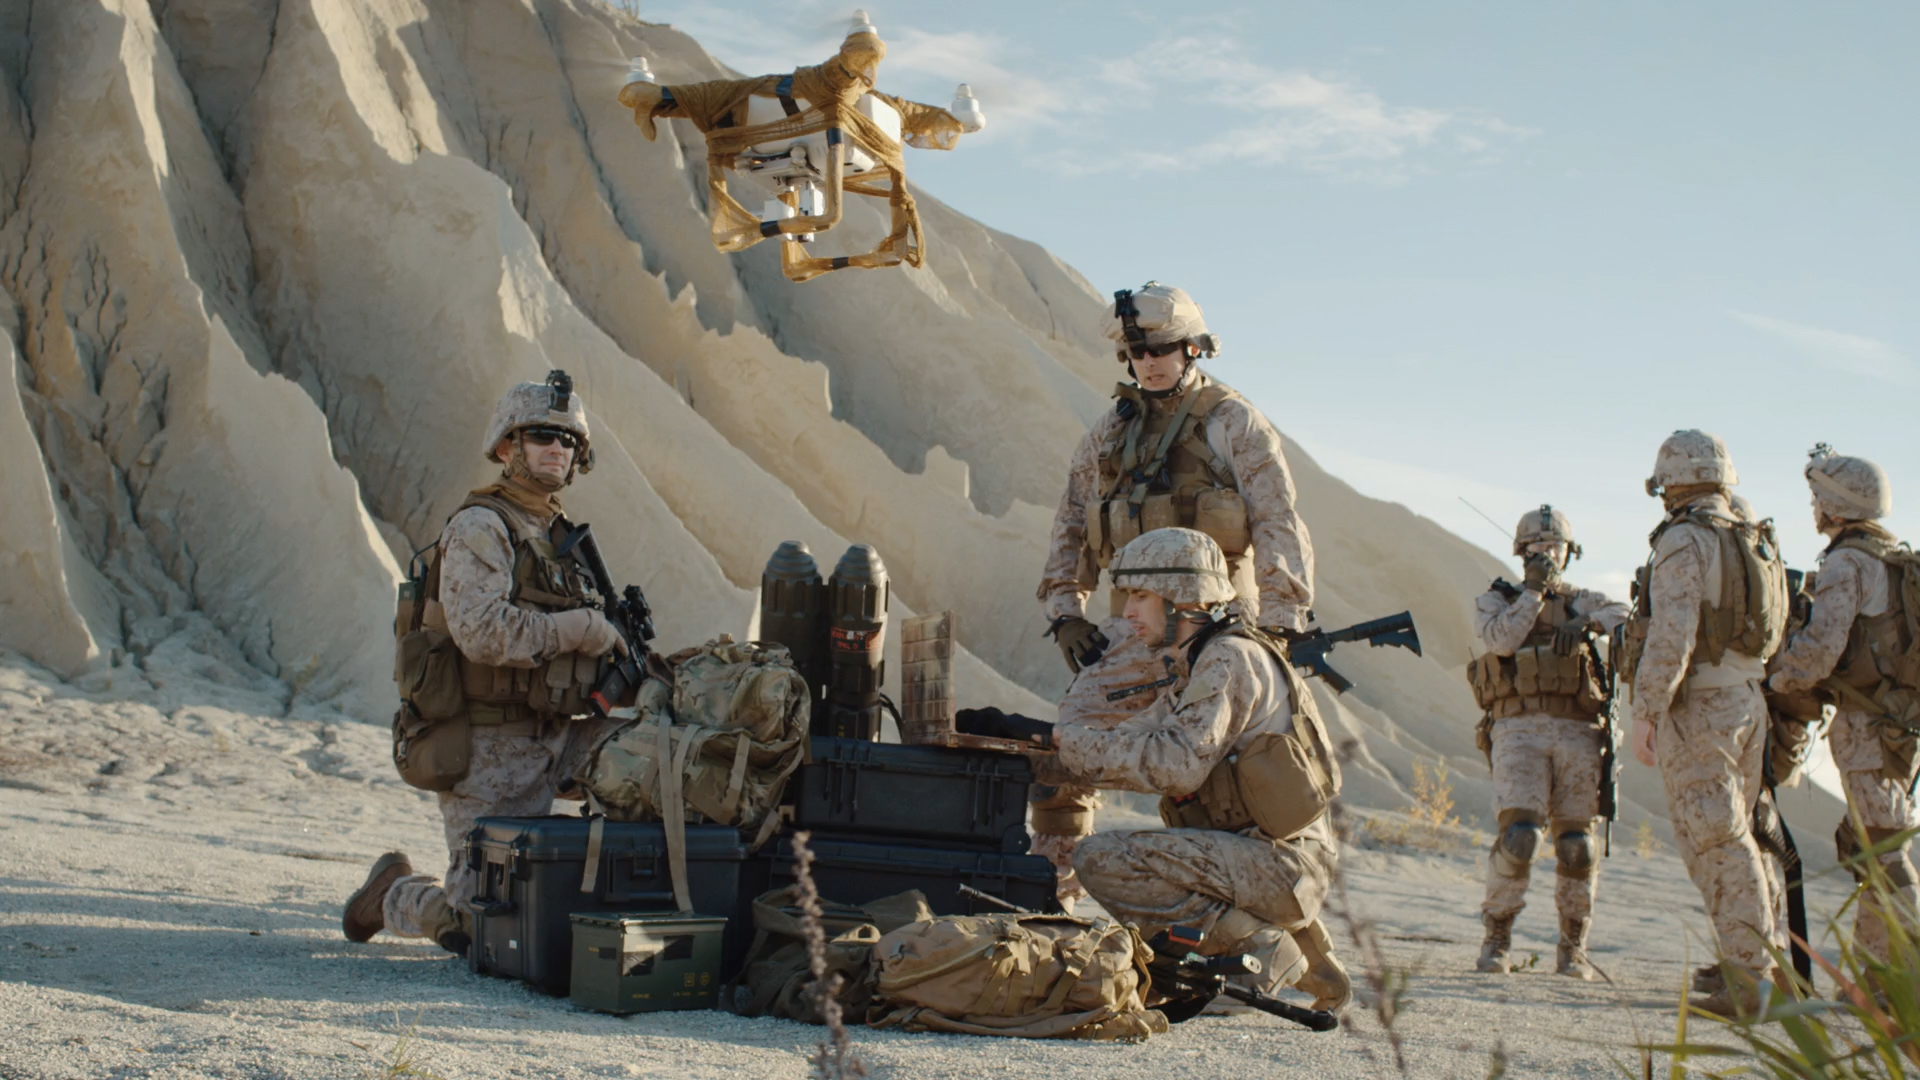drone: (567, 5, 1022, 281)
person: (337, 359, 661, 978), (1042, 273, 1378, 829), (1087, 526, 1346, 1032), (1617, 421, 1808, 1015), (1466, 504, 1644, 976), (1786, 440, 1920, 1047)
